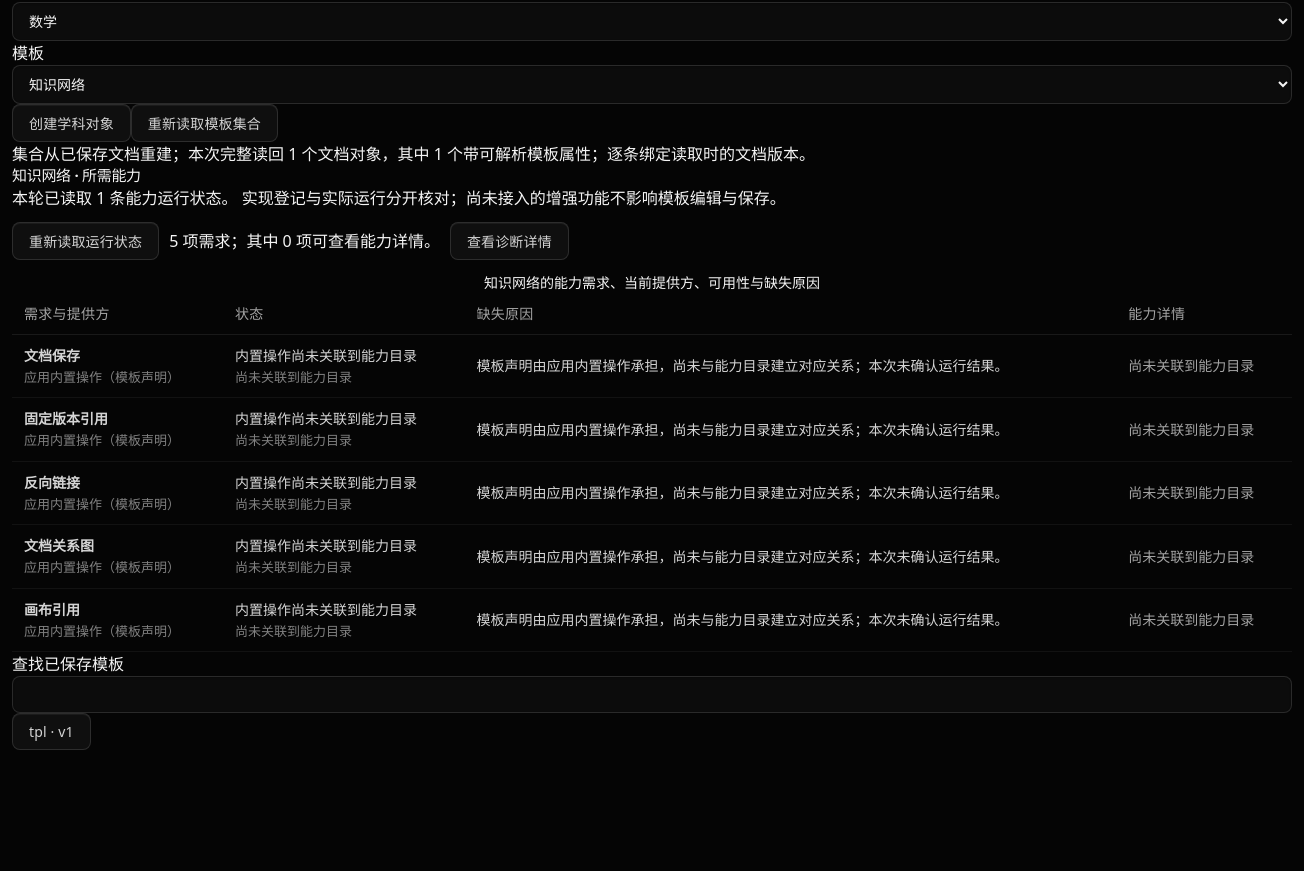
Test: template detail renders the requirement table › does not promote a connection observation into a successful template task: {"health":"handshake_ready"}
Click the button "tpl · v1": point(51, 732) [12,713,91,750]
(page scrolled)
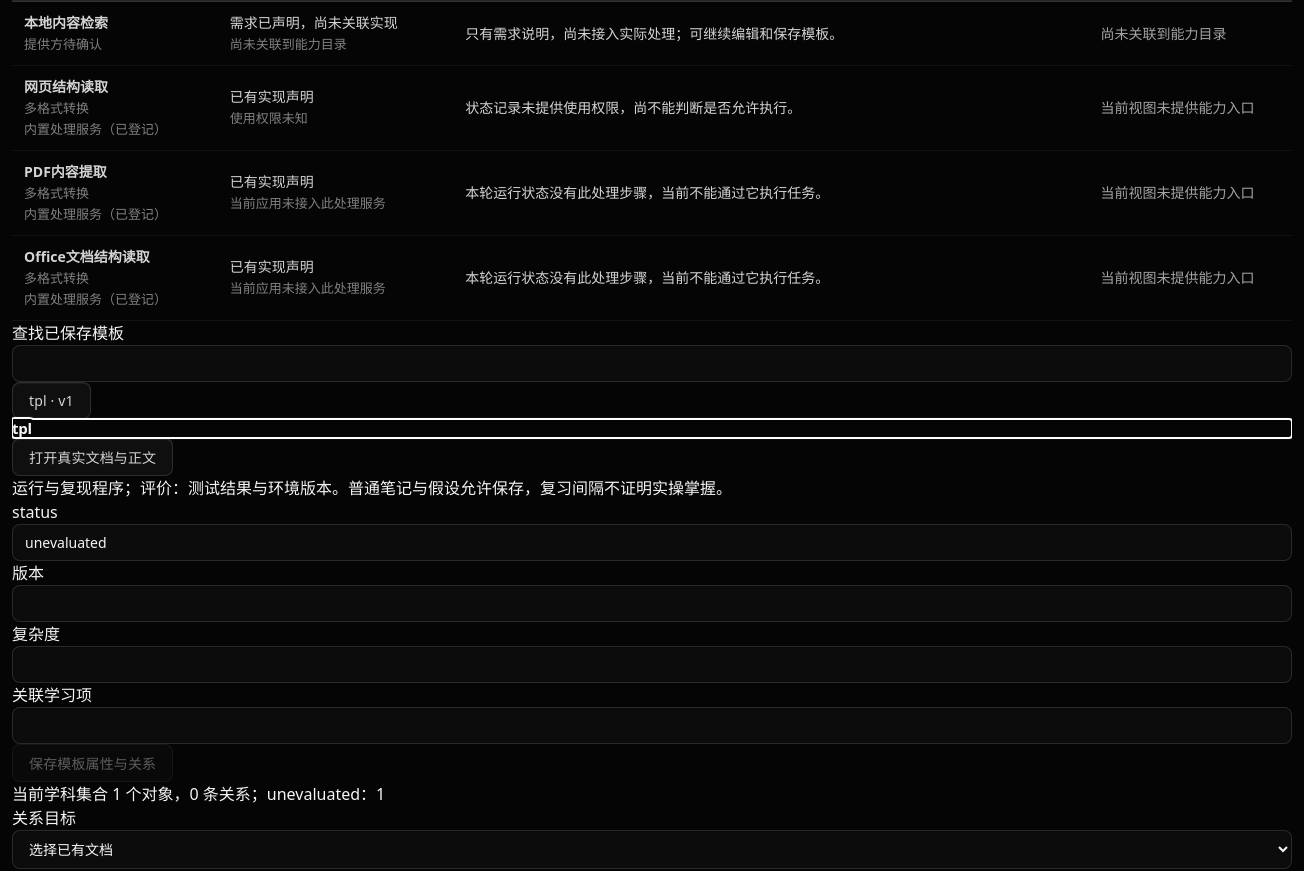
Expected: the row "网页结构读取" shows "已有实现声明", [230,87,314,106]
Expected: the row "网页结构读取" shows "使用权限未知", [230,109,308,127]
Expected: the row "网页结构读取" shows "尚不能判断是否允许执行", [465,98,801,117]
